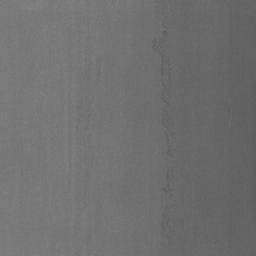Silk spot: (160, 50, 169, 76), (165, 131, 173, 157), (160, 218, 169, 238), (152, 38, 164, 49)
